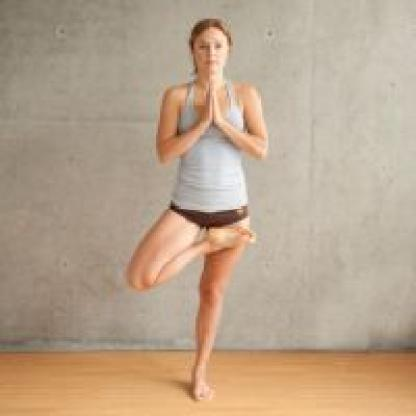tree: (117, 11, 279, 405)
